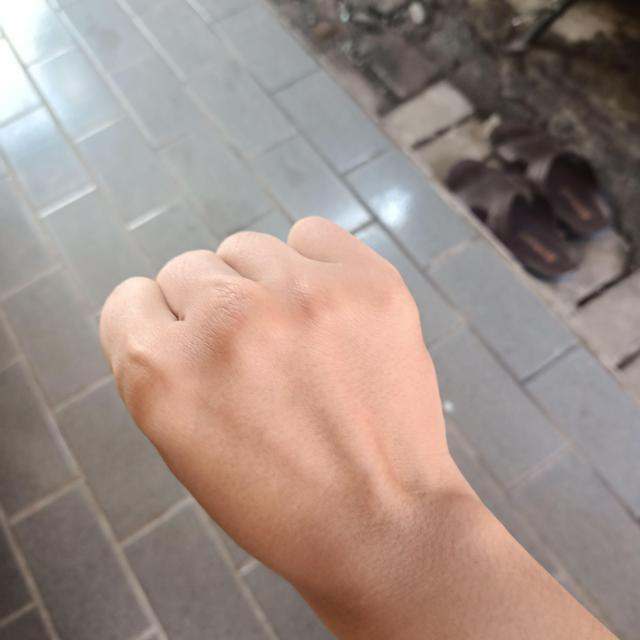fist: (90, 205, 465, 601)
